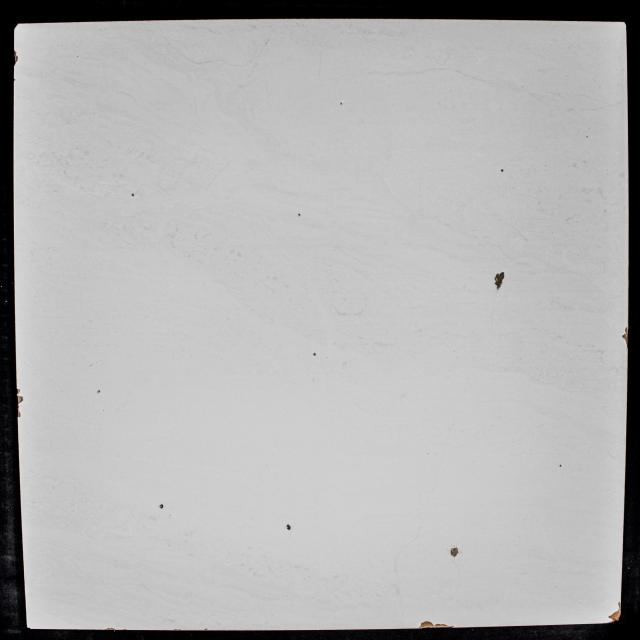edge-chipping: (608, 613, 621, 624), (418, 621, 434, 629), (622, 326, 629, 339), (14, 49, 18, 67), (17, 395, 24, 404), (434, 623, 446, 628), (18, 405, 21, 418), (14, 23, 19, 30), (16, 388, 21, 394), (625, 340, 628, 350), (446, 625, 454, 628), (107, 628, 115, 630), (27, 627, 31, 629)
hole: (494, 271, 505, 291), (450, 547, 459, 557), (286, 524, 291, 530), (159, 504, 164, 509), (96, 390, 102, 394), (339, 101, 343, 106), (312, 352, 316, 356), (298, 213, 301, 217), (131, 192, 134, 196), (618, 601, 620, 607), (501, 169, 504, 172), (559, 464, 562, 467), (204, 628, 207, 630)
